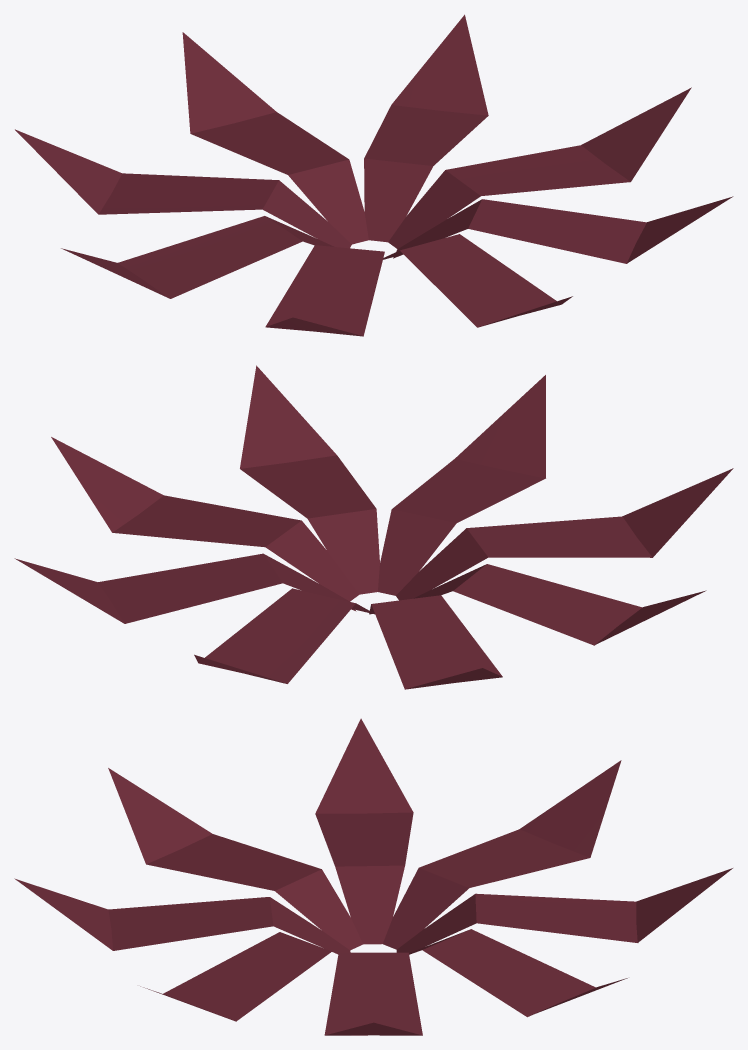
File: cursedBush_2.fbx
3 renders of one model, top to bottom at view 1: azimuth 30°, elevation 25°; view 2: azimuth 150°, elevation 25°; view 3: azimuth 270°, elevation 25°, orthographic. The views are drawn at different scales.
Parts seen in each view (by area): view 1: Plane.004; view 2: Plane.004; view 3: Plane.004.
Part boxes in pixels (bbox=[...]): Plane.004: bbox=[15, 14, 733, 336]; Plane.004: bbox=[14, 365, 733, 689]; Plane.004: bbox=[14, 718, 732, 1035].
Size of the model in its own units: 153 by 19.58 by 153.
